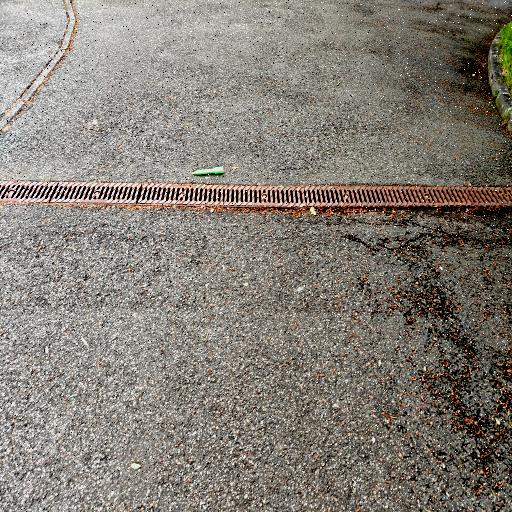Probe-Detection: (192, 167, 223, 175)
